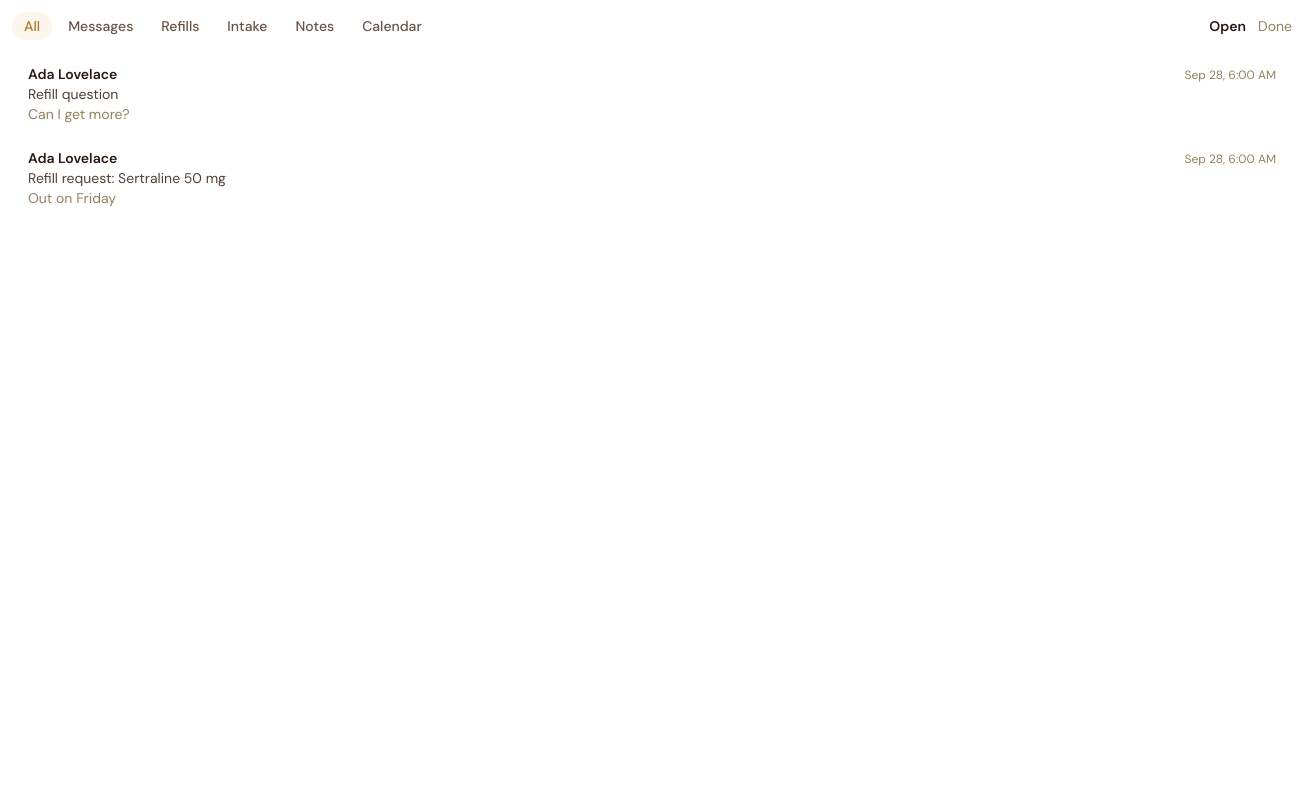
Scenario: Inbox › the client's earlier messages, after a reply › says 'earlier message' for one
Click the 1st button with test id "inbox-row" at (73, 74), box [12,52,1292,136]
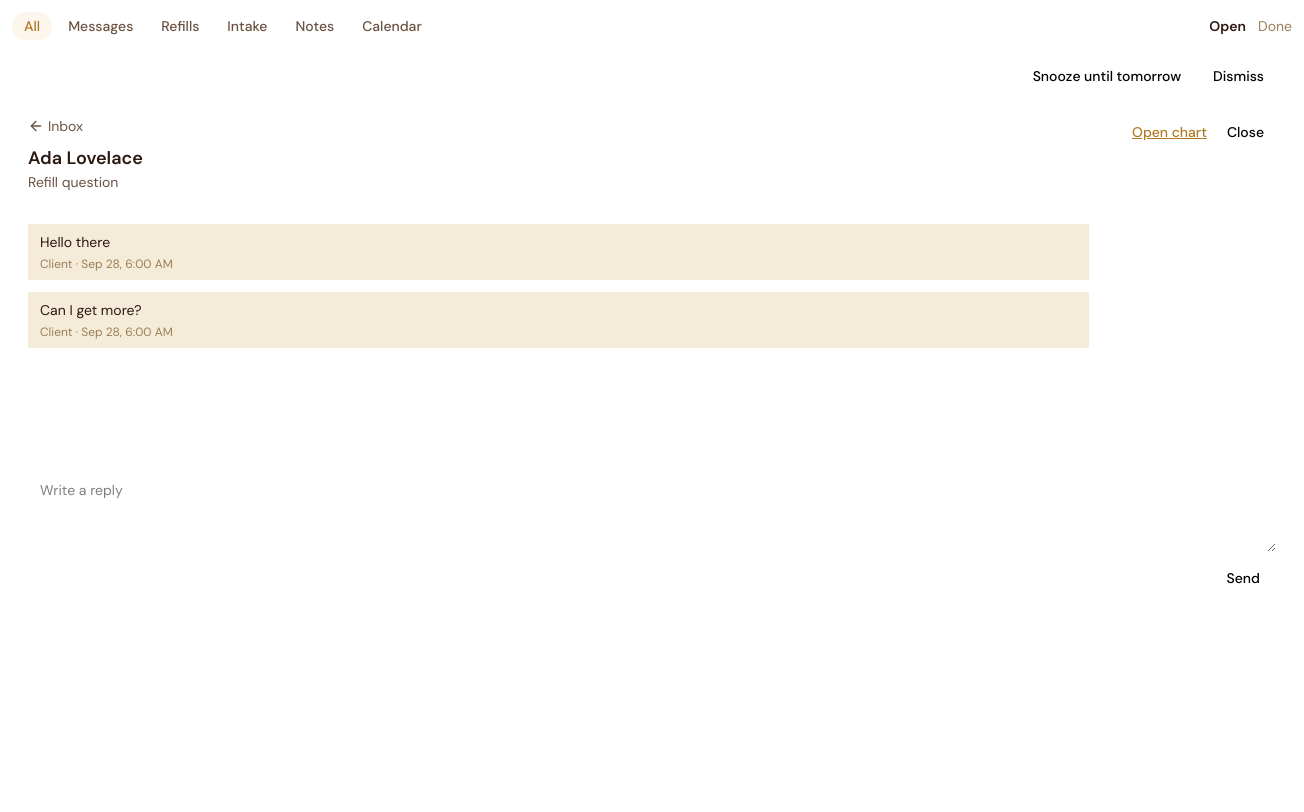
Type "Yes, sent." into the text box with test id "thread-reply-input" at (652, 512), box [28,472,1276,552]
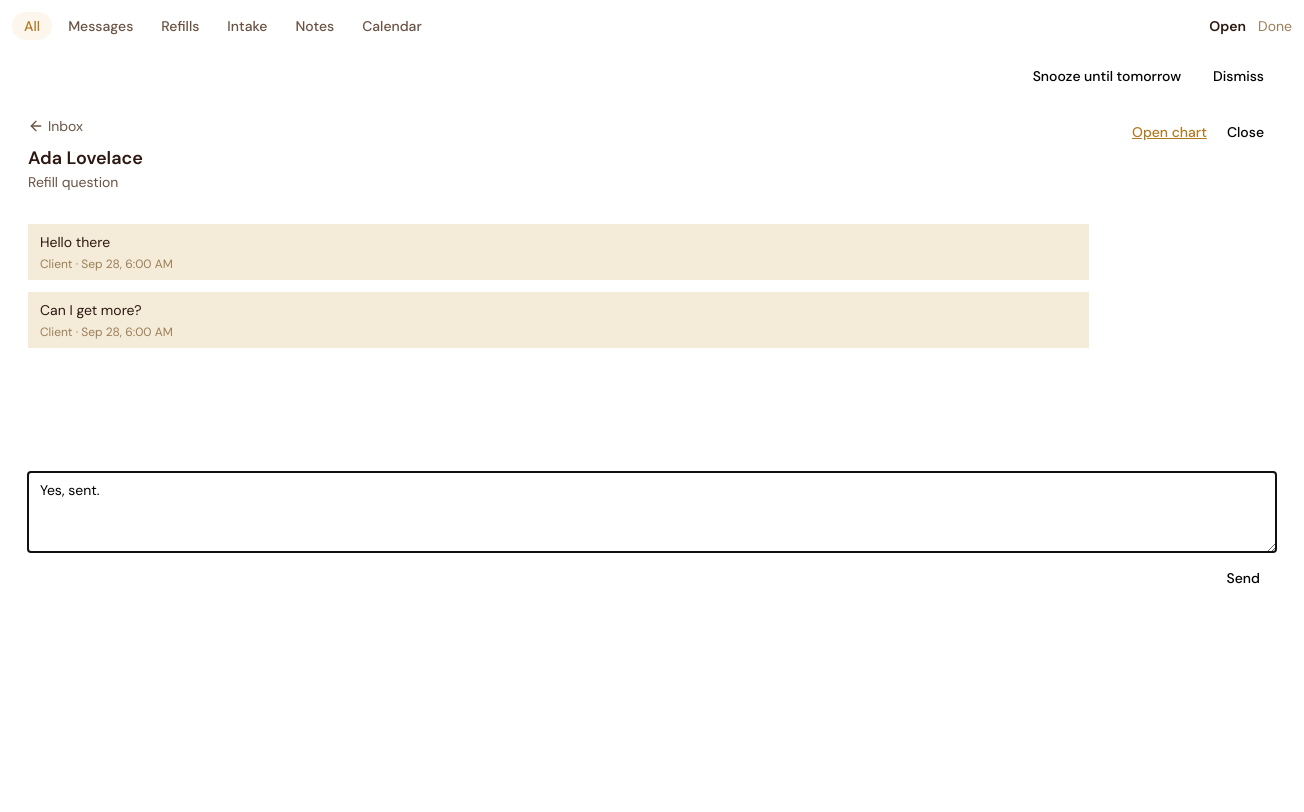
Click the button with test id "thread-reply-send" at (1243, 578), box [1210,560,1276,596]
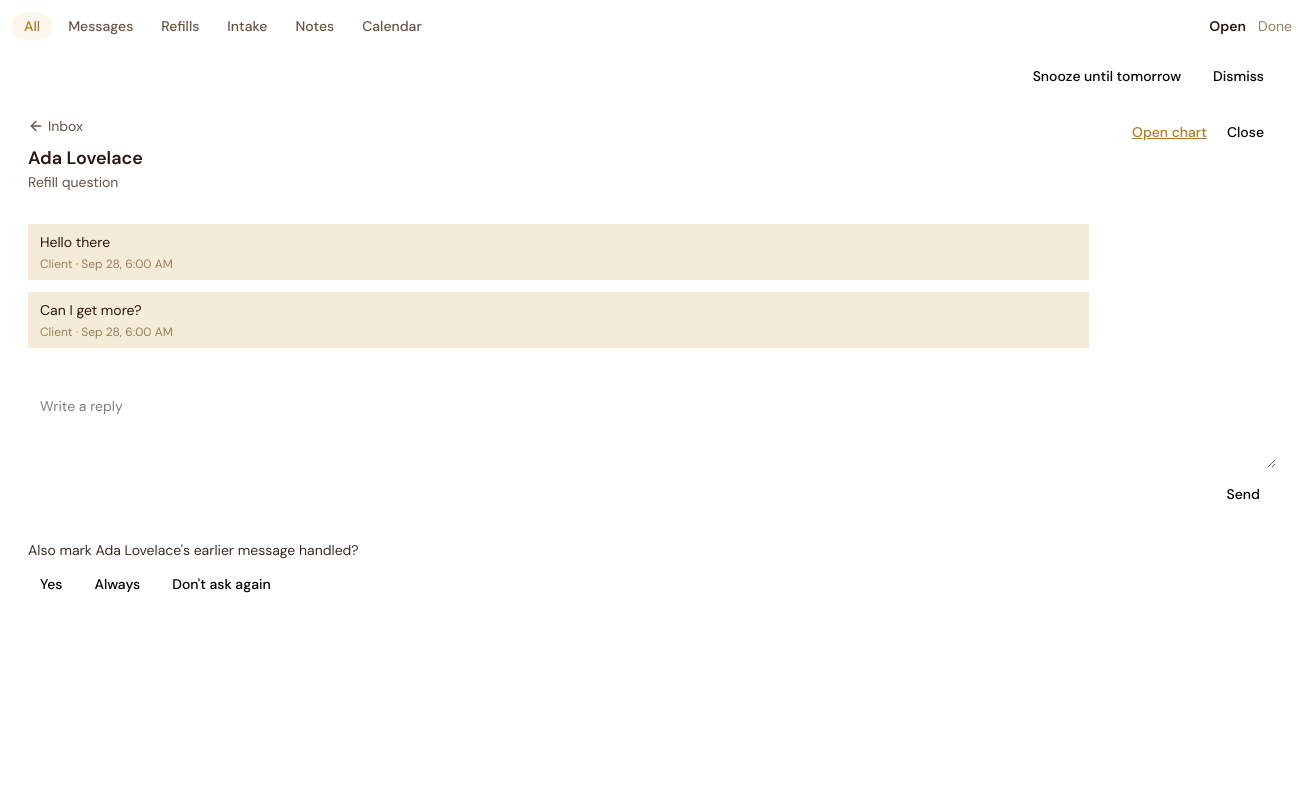
Now the message with test id "inbox-earlier-prompt" shows "Also mark Ada Lovelace's earlier message handled?", box [28,541,359,559]
